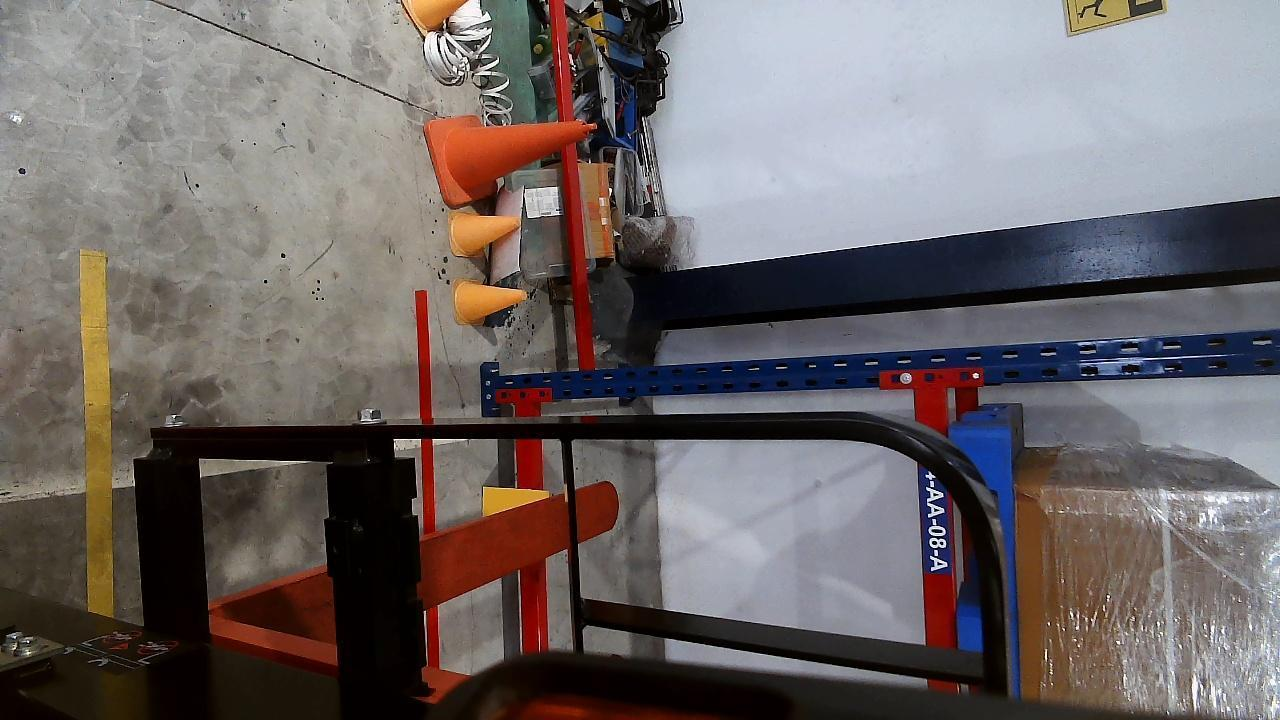red_line: (412, 289, 443, 669)
yellow_line: (80, 252, 115, 618)
